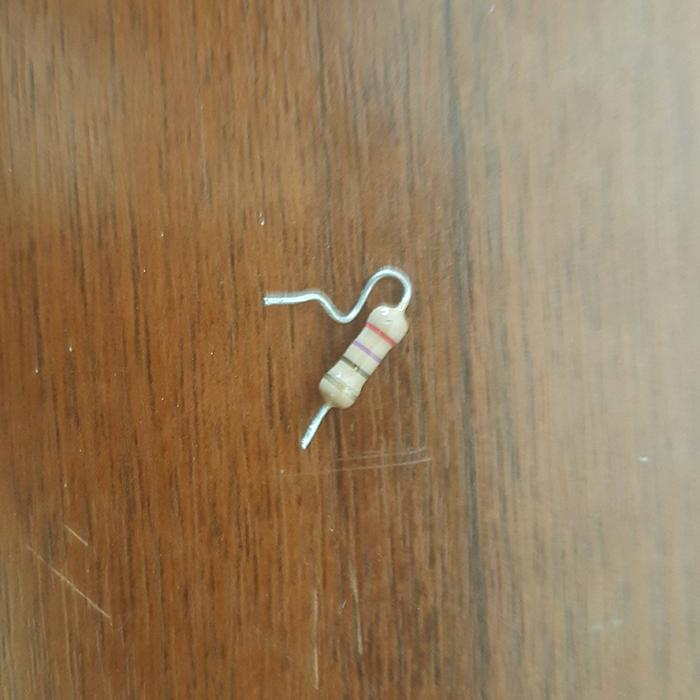resistor: (318, 303, 409, 411)
